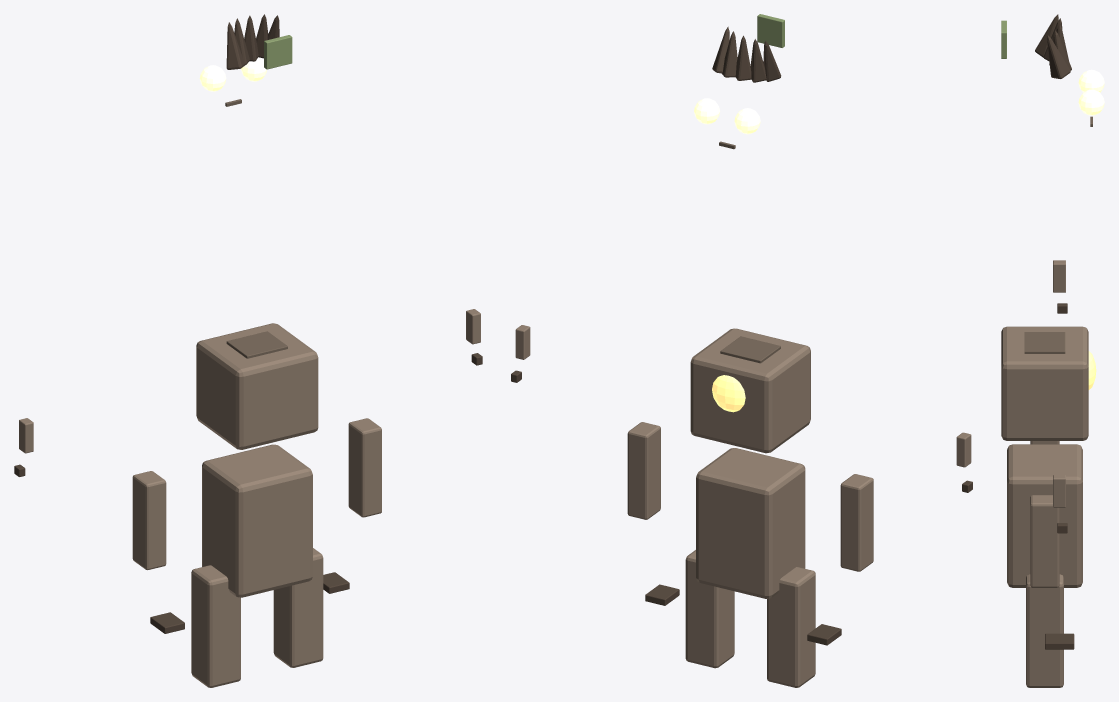
Rendered from bramble_imp_v2.glb.
The picture shows the model from 3 angles, left to right: view 1: azimuth 30°, elevation 25°; view 2: azimuth 150°, elevation 25°; view 3: azimuth 270°, elevation 25°; orthographic projection.
Visible parts, largest first — view 1: Body, Head, Leg_L, Leg_R, Arm_L, Arm_R, BodyVine2, HeadLeaf; view 2: Body, Head, Leg_L, Leg_R, Arm_L, Arm_R, BodyVine2, ChestEmber, HeadLeaf; view 3: Head, Body, Leg_R, Arm_R, BodyVine2, Thorn_4, Eye_R, Leg_R_Foot, Eye_L, Arm_L_Fore, Arm_R_Fore, Thorn_0 (+3 smaller).
Boxes of the visible parts, bbox=[...] form: Body: bbox=[202, 444, 312, 597]; Head: bbox=[196, 323, 318, 449]; Leg_L: bbox=[191, 565, 240, 687]; Leg_R: bbox=[273, 548, 323, 667]; Arm_L: bbox=[132, 471, 166, 570]; Arm_R: bbox=[348, 418, 381, 517]; BodyVine2: bbox=[226, 331, 287, 358]; HeadLeaf: bbox=[264, 35, 292, 69]; Body: bbox=[696, 448, 805, 598]; Head: bbox=[690, 328, 810, 453]; Leg_L: bbox=[767, 567, 815, 687]; Leg_R: bbox=[685, 550, 734, 668]; Arm_L: bbox=[840, 474, 873, 571]; Arm_R: bbox=[627, 422, 660, 519]; BodyVine2: bbox=[720, 336, 780, 363]; ChestEmber: bbox=[712, 375, 745, 412]; HeadLeaf: bbox=[757, 14, 784, 47]; Head: bbox=[1001, 326, 1088, 440]; Body: bbox=[1007, 444, 1082, 587]; Leg_R: bbox=[1026, 574, 1063, 687]; Arm_R: bbox=[1030, 495, 1059, 587]; BodyVine2: bbox=[1024, 332, 1065, 353]; Thorn_4: bbox=[1047, 35, 1070, 78]; Eye_R: bbox=[1078, 89, 1104, 115]; Leg_R_Foot: bbox=[1045, 633, 1074, 649]; Eye_L: bbox=[1078, 69, 1104, 92]; Arm_L_Fore: bbox=[1053, 260, 1065, 292]; Arm_R_Fore: bbox=[1053, 475, 1065, 507]; Thorn_0: bbox=[1035, 14, 1058, 57].
Bounding box in the file's own units: 1.8 × 2.41 × 0.355.
